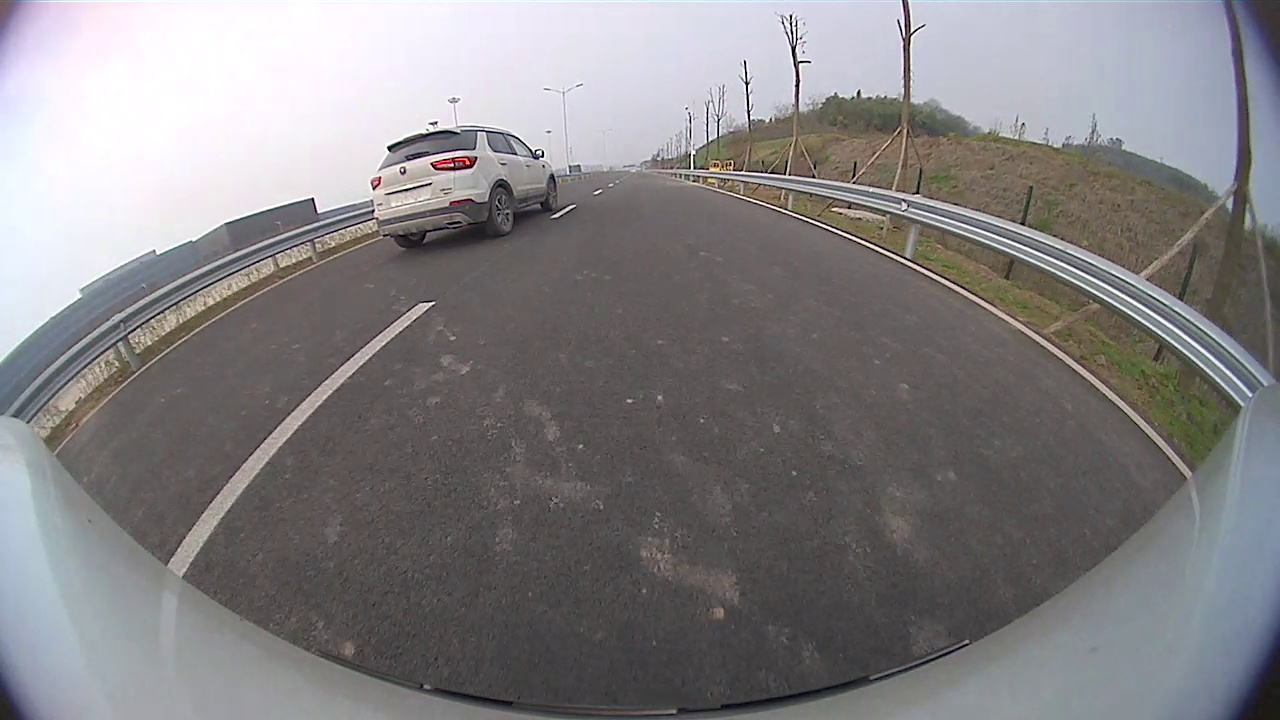car: (370, 124, 558, 251)
front: (543, 175, 560, 211)
rear: (488, 185, 514, 237)
